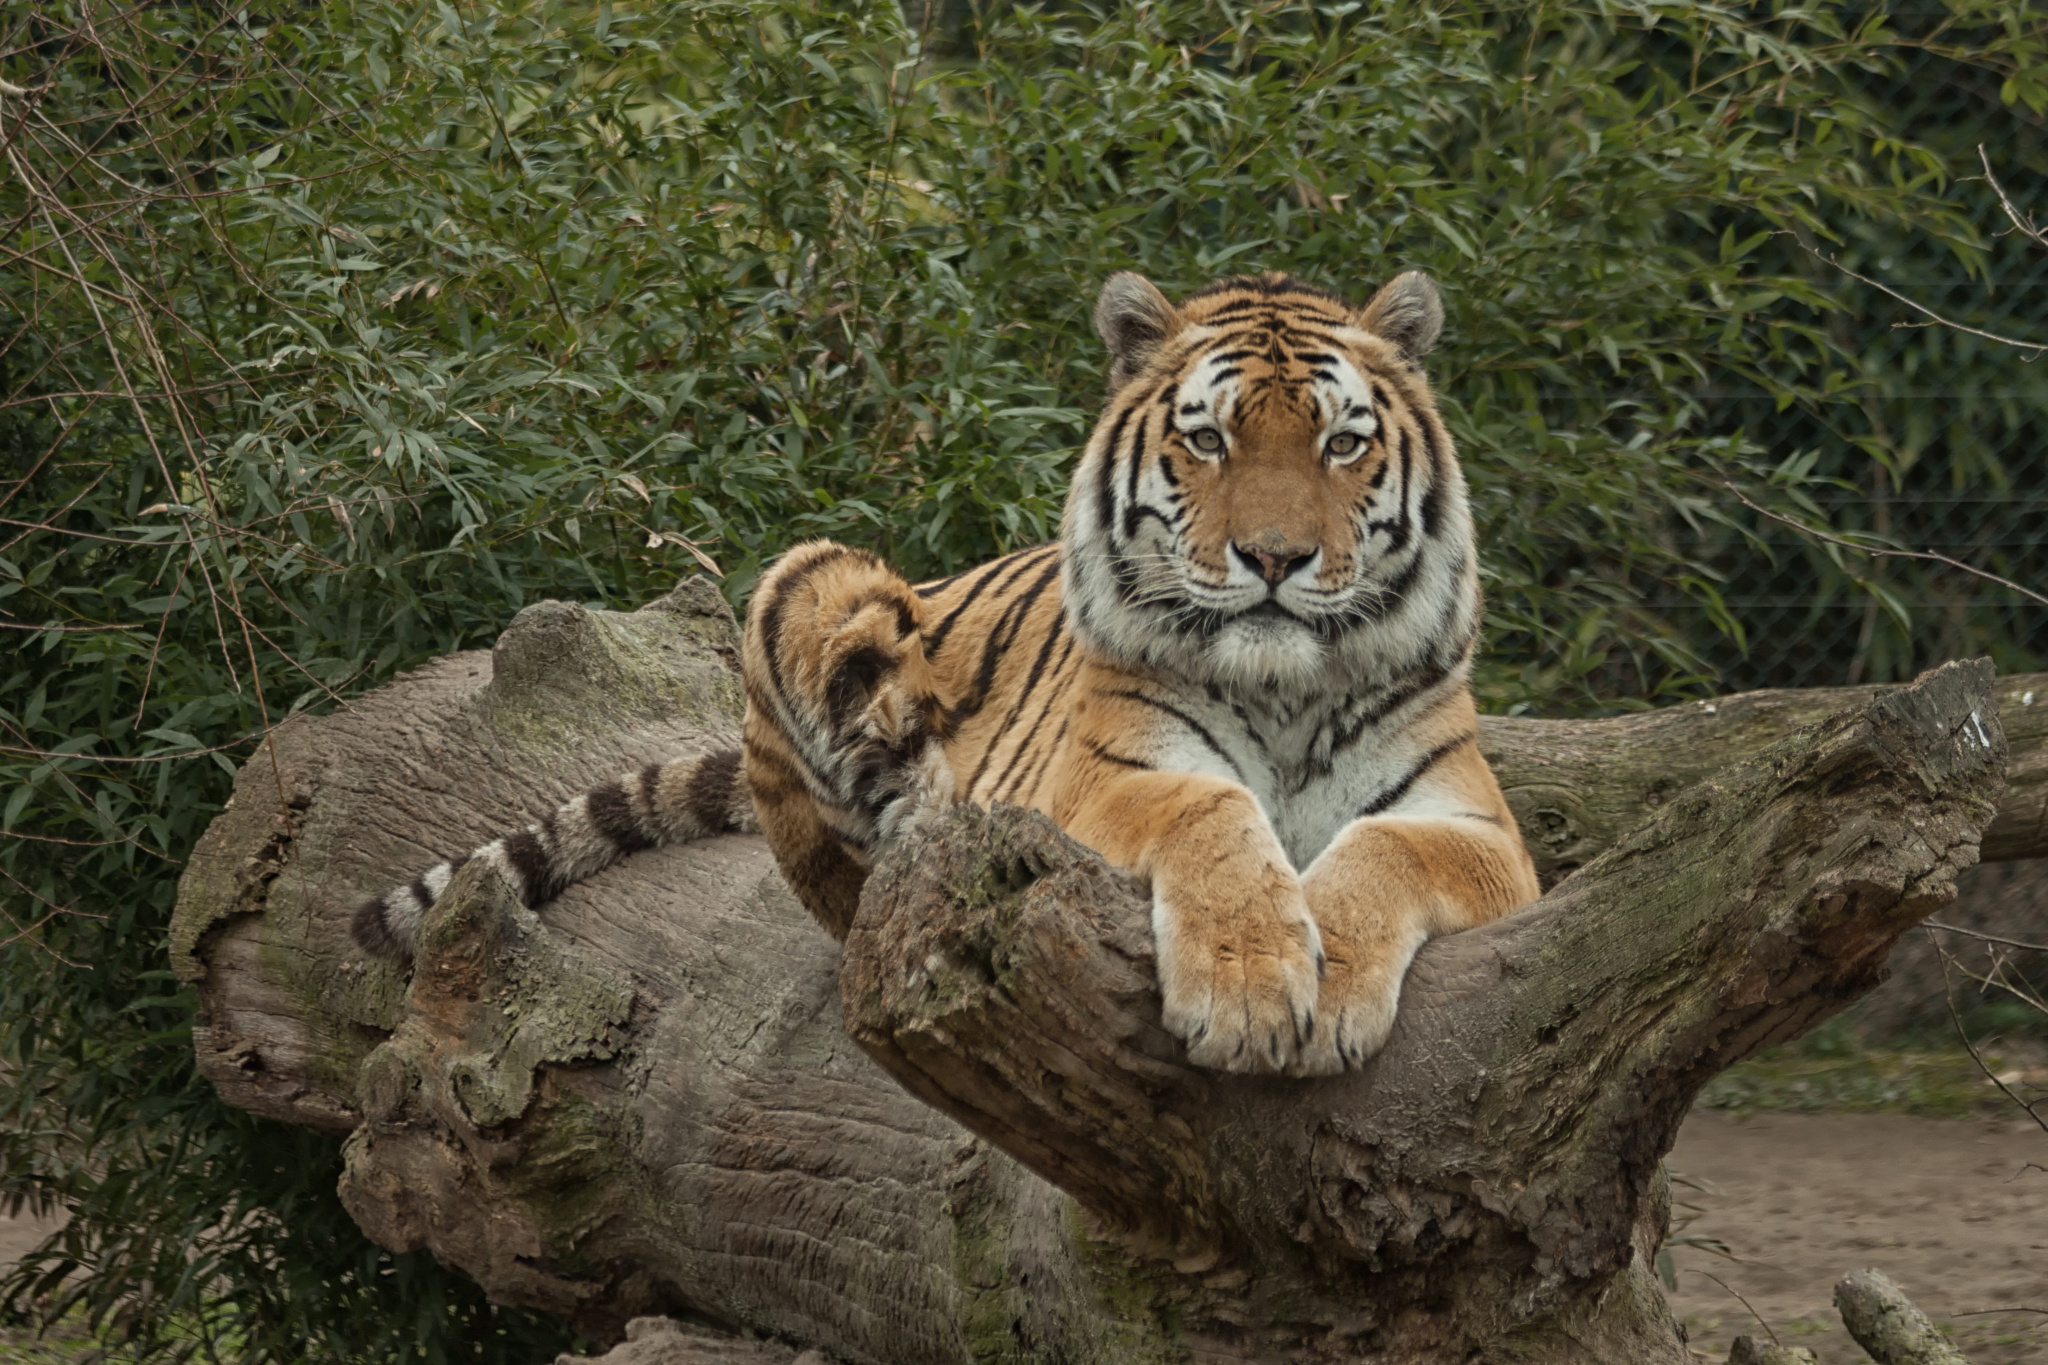tiger: (605, 265, 1588, 951)
